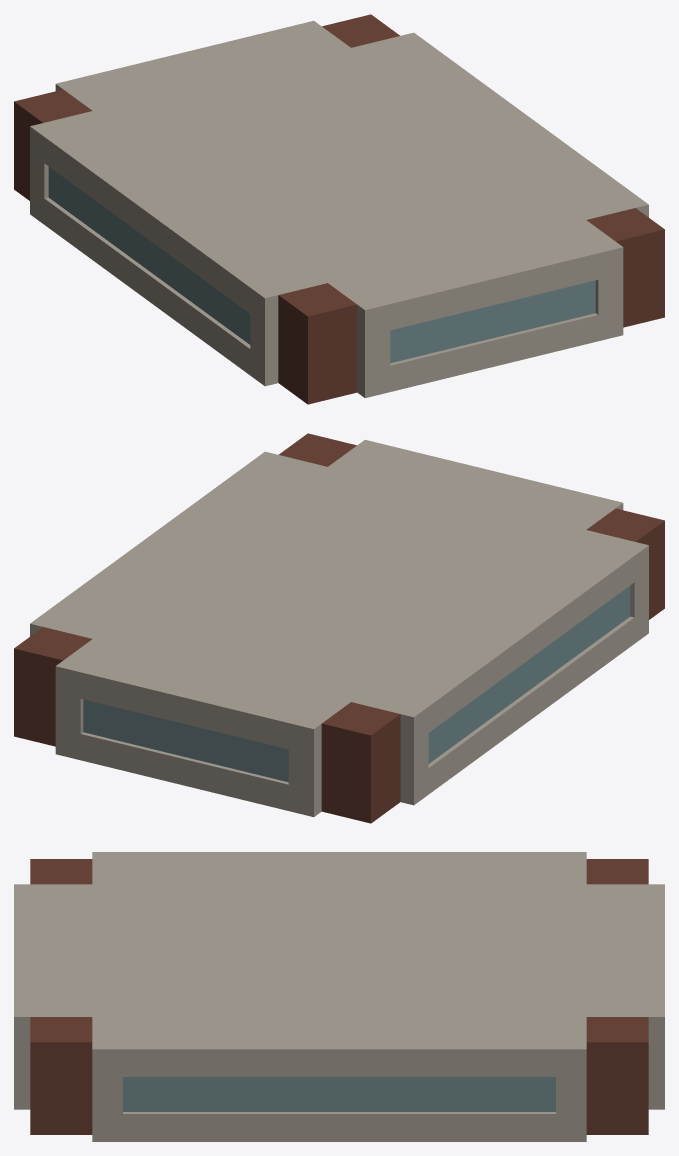
File: SGM_Mid.fbx
3 views of the same model, one above another, from view 1: azimuth 30°, elevation 25°; view 2: azimuth 150°, elevation 25°; view 3: azimuth 270°, elevation 25° (orthographic). The views are drawn at different scales.
Visible parts, largest first — view 1: SGM_Mid; view 2: SGM_Mid; view 3: SGM_Mid.
Boxes of the visible parts, x1,y1,x2,y2 form: SGM_Mid: (14,14,664,404); SGM_Mid: (14,433,664,823); SGM_Mid: (14,852,664,1141).
Bounding box in the file's own units: 2283 × 500 × 3186.
